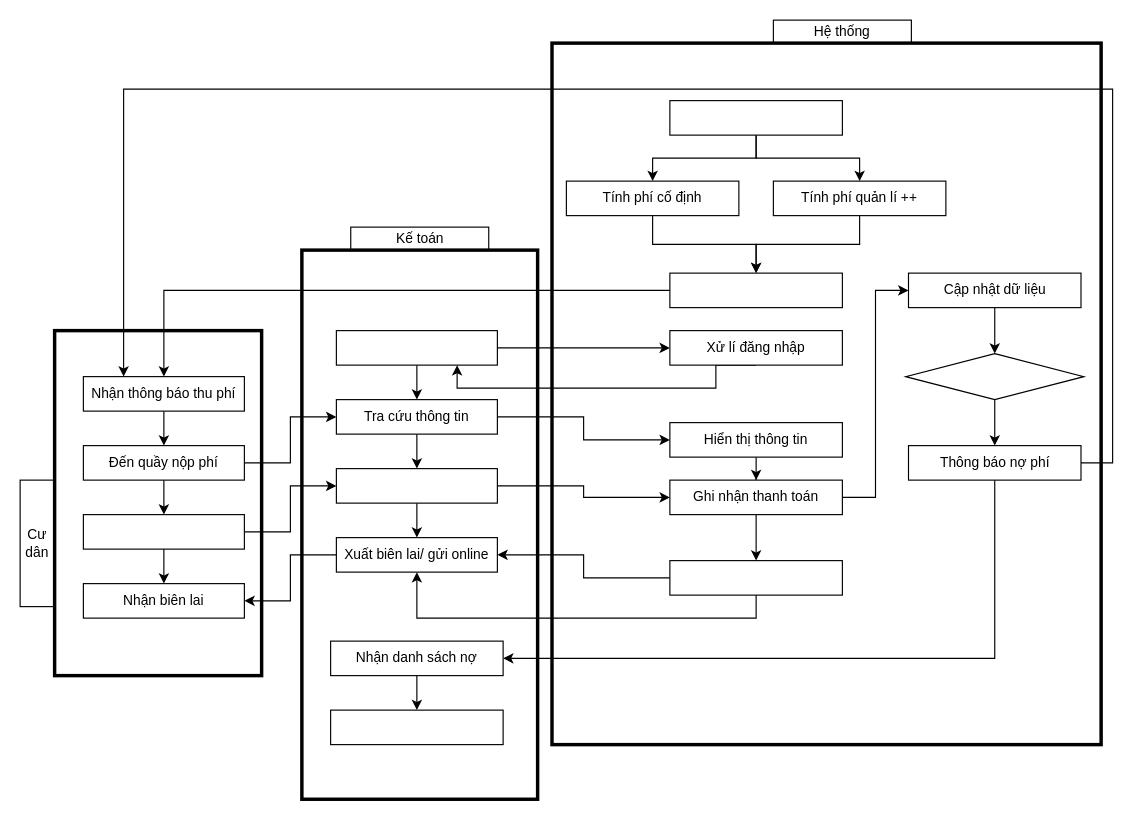
Image size: 1142x821. Some labels were removed from this diagram. Each missing label, with the box of its shape:
Kiểm tra nợ phí: (904, 352, 1084, 400)
Thanh toán: (82, 513, 244, 549)
Tạo biên lai: (669, 559, 842, 595)
Tạo các khoản thu tự động: (669, 99, 842, 135)
Tạo thông báo thu phí: (669, 272, 842, 308)
Xử lí theo quy định: (329, 709, 503, 745)
Xử lý thanh toán: (335, 467, 497, 503)
Đăng nhập hệ thống: (335, 329, 497, 365)
